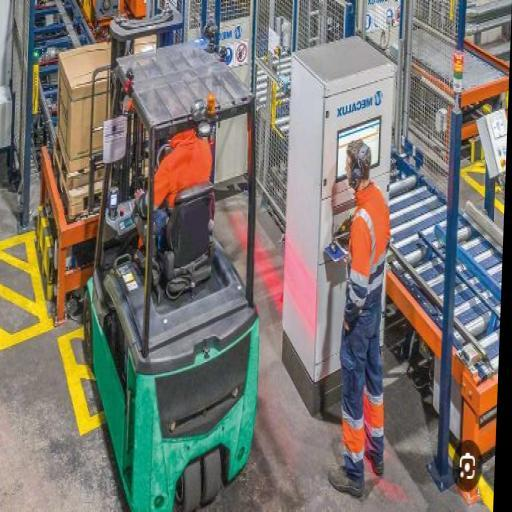safety_boots: (327, 457, 369, 502), (366, 455, 392, 481)
